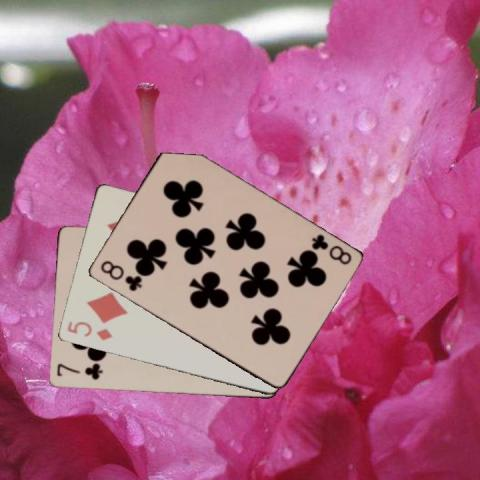5d: (64, 319, 114, 342)
7c: (53, 361, 104, 382)
8c: (96, 257, 142, 293), (308, 231, 353, 266)
